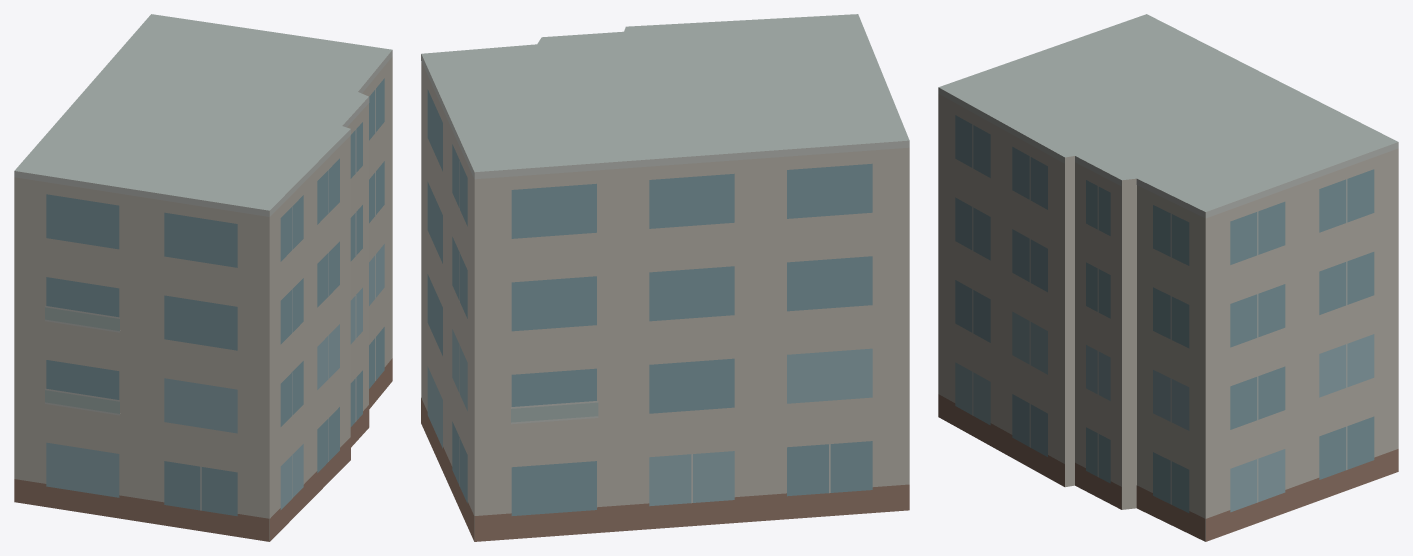
Rendered from survey-upis-32608644.glb.
3 renders of one model, left to right at view 1: azimuth 30°, elevation 25°; view 2: azimuth 150°, elevation 25°; view 3: azimuth 270°, elevation 25°, orthographic. The views are drawn at different scales.
Parts seen in each view (by area): view 1: survey-upis-32608644.tmp; view 2: survey-upis-32608644.tmp; view 3: survey-upis-32608644.tmp.
Part boxes in pixels (x1,y1,x2,y2): survey-upis-32608644.tmp: (14, 14, 392, 541); survey-upis-32608644.tmp: (421, 14, 909, 541); survey-upis-32608644.tmp: (938, 14, 1398, 541).
Size of the model in its own units: 16.38 by 12.7 by 16.07.
